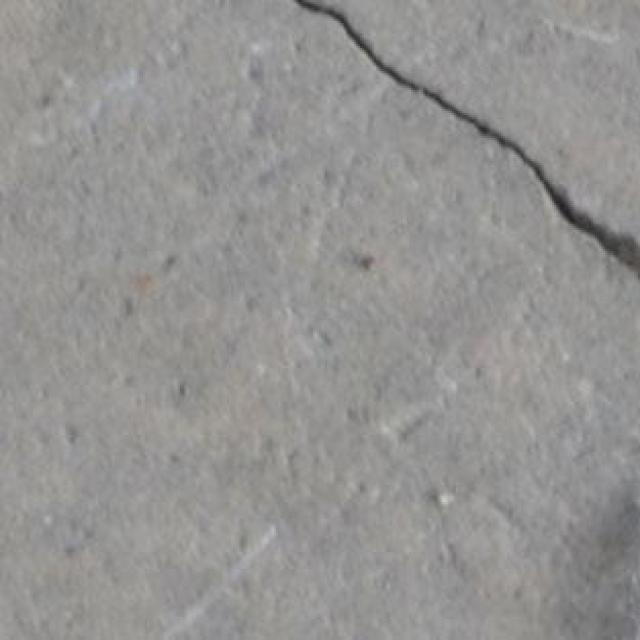diagonal crack: (290, 0, 638, 278)
